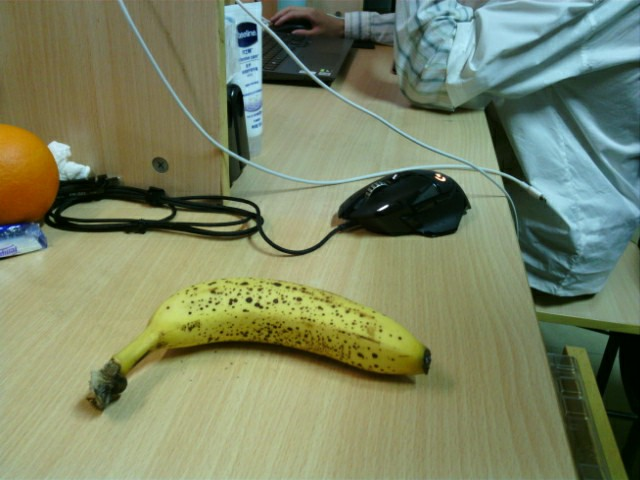normal_banana: (90, 278, 432, 410)
normal_orange: (1, 121, 61, 223)
